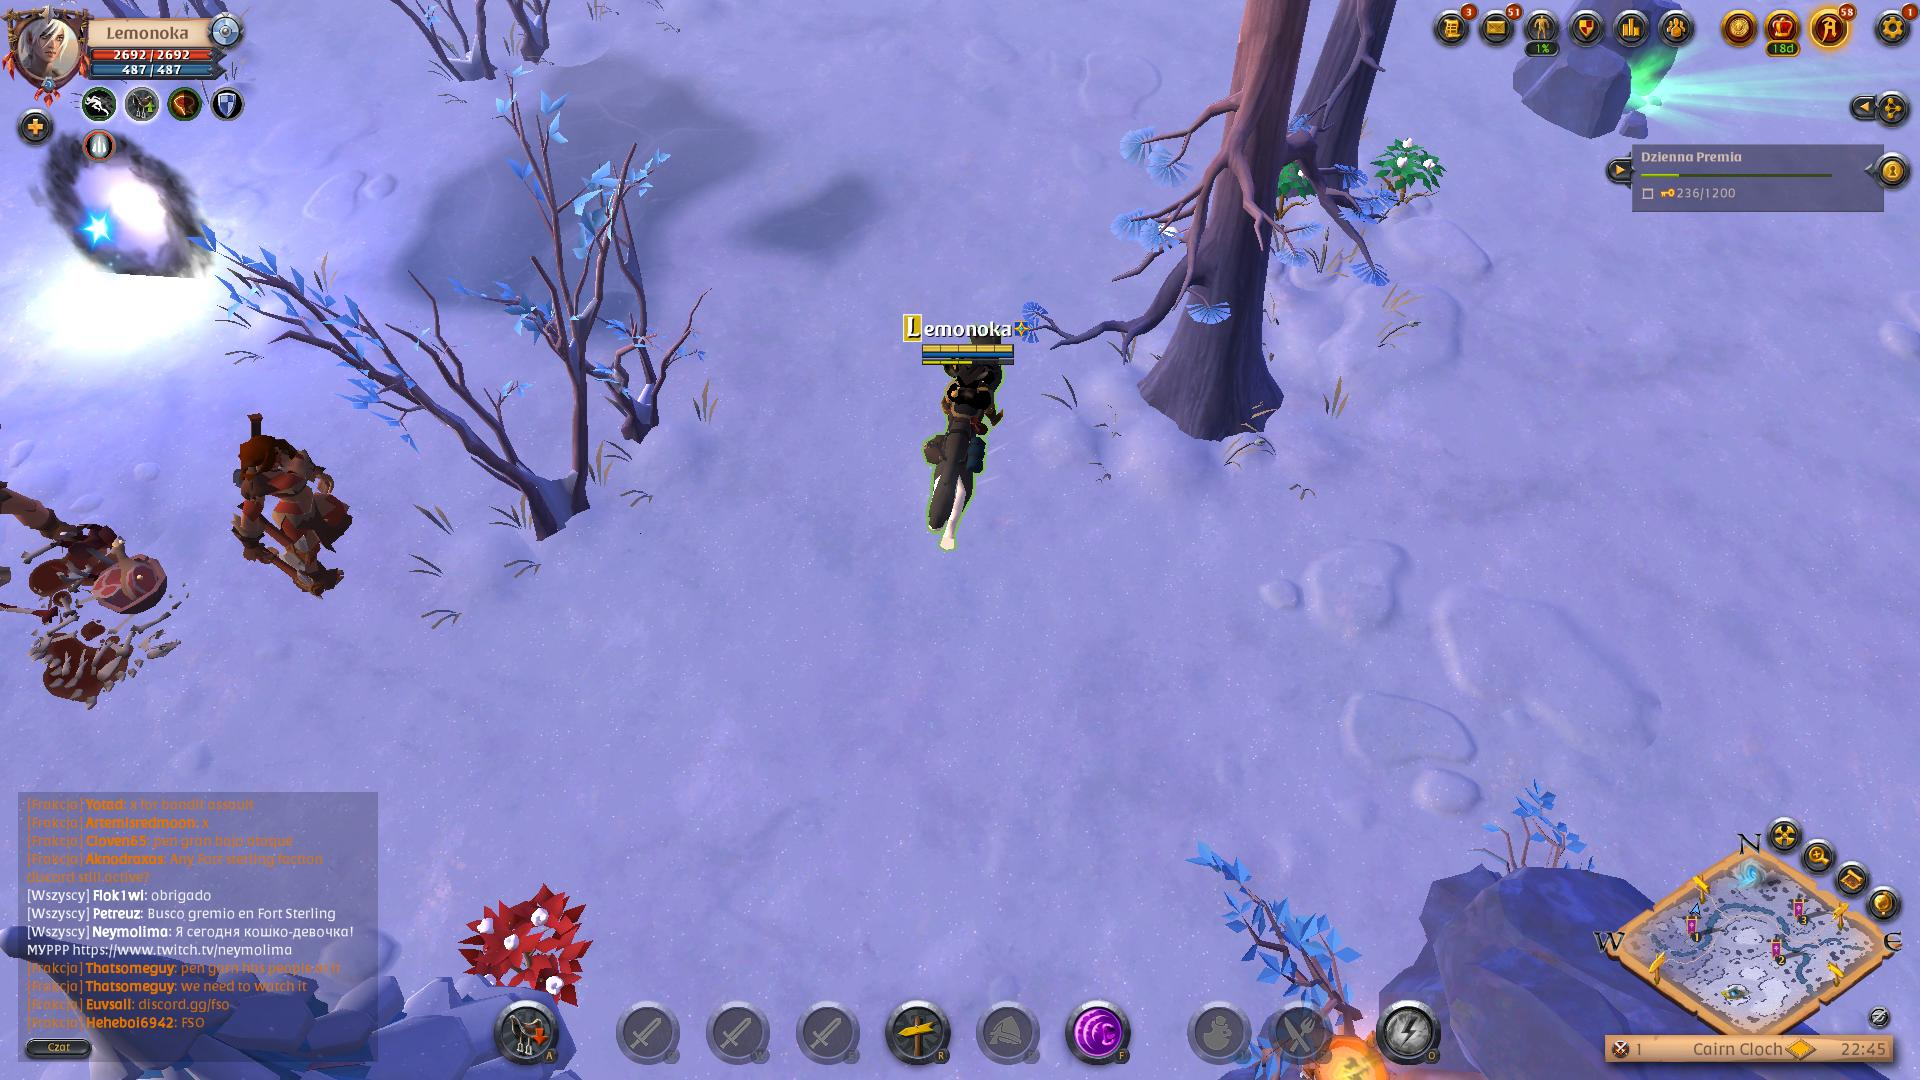fiber tier 3: (1369, 132, 1448, 214)
fiber tier 5: (472, 880, 591, 1006)
